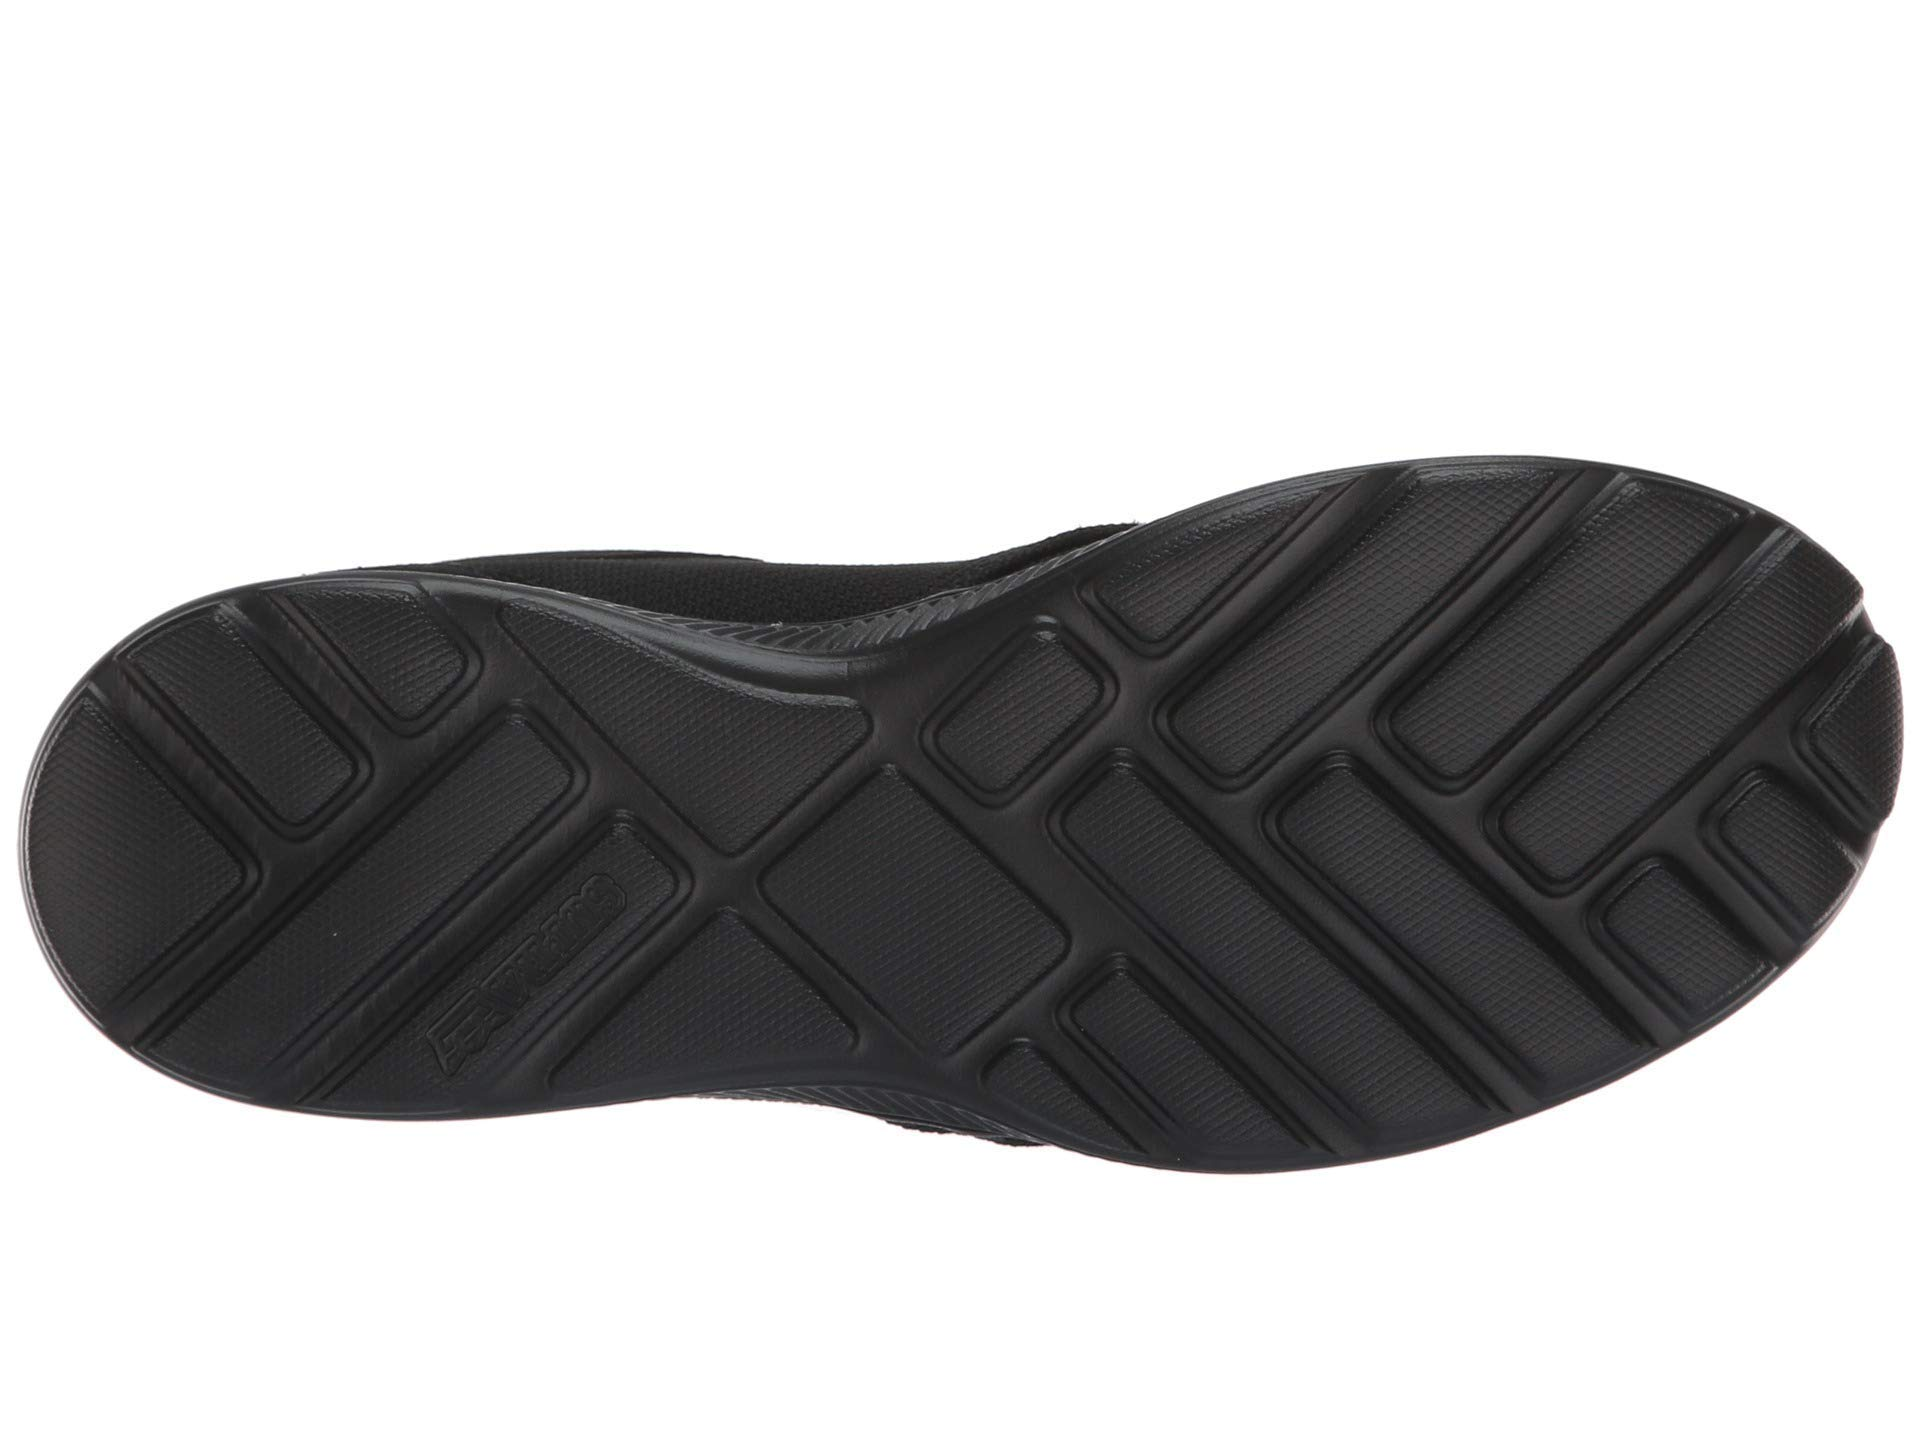quad: (875, 597, 1359, 1165), (283, 729, 701, 1107), (1527, 681, 1888, 1097)
text: (283, 729, 701, 1107)
